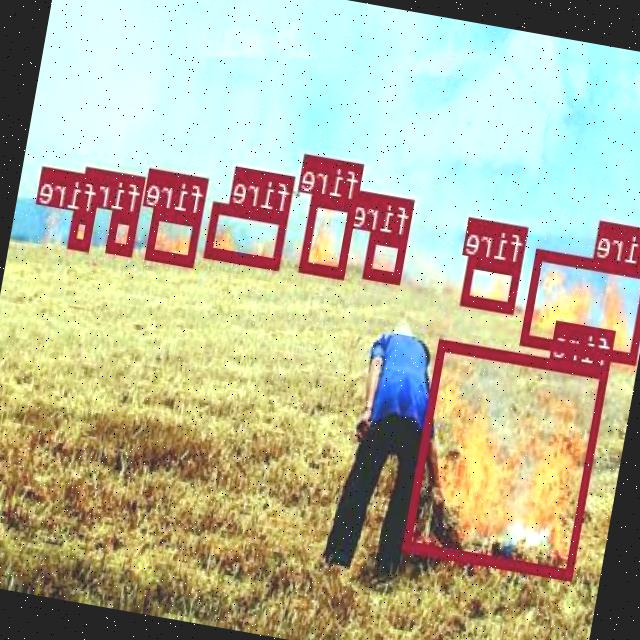fire: (402, 338, 610, 580), (522, 248, 640, 364), (205, 200, 288, 267), (301, 194, 358, 276), (462, 256, 522, 310), (148, 208, 202, 264), (366, 232, 408, 282), (108, 208, 140, 255), (69, 210, 96, 248)
